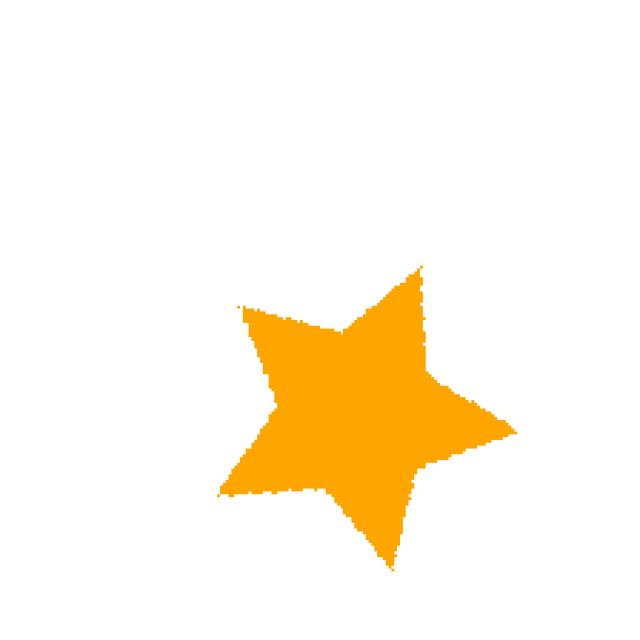Star: (197, 252, 522, 582)
